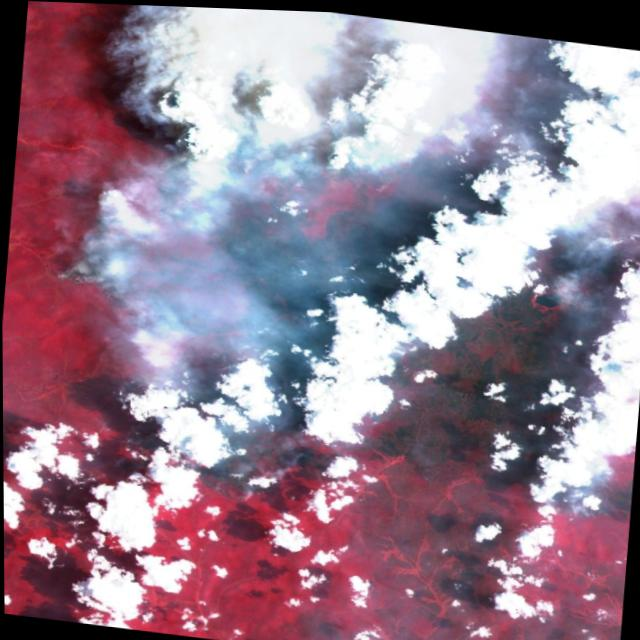fire: (25, 34, 640, 569)
